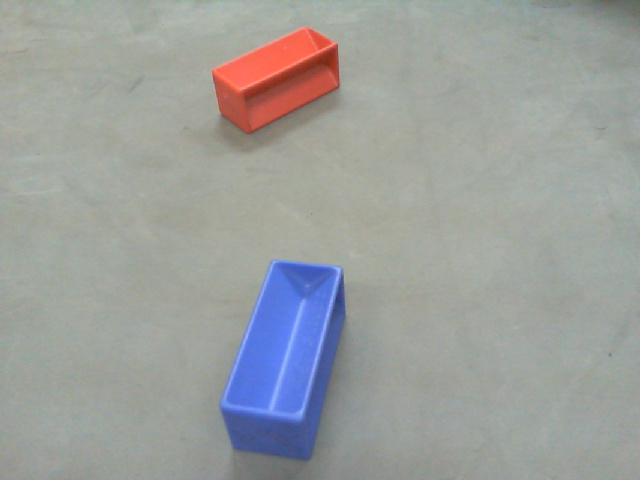BlueSample: (219, 259, 350, 455)
RedSample: (203, 25, 342, 139)
